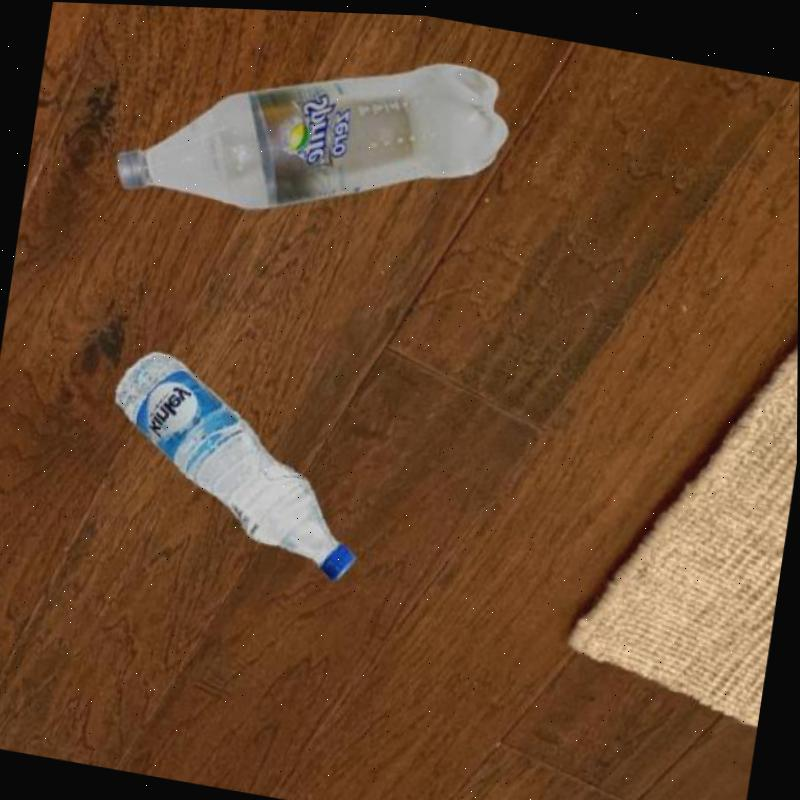botella: (112, 5, 515, 256), (91, 340, 381, 582)
